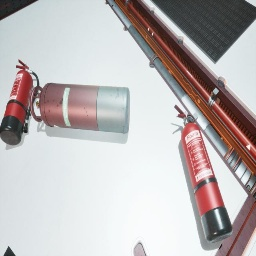FireExtinguisher ]: (174, 104, 233, 243), (0, 59, 39, 145)
NitrogenTank ,: (30, 83, 130, 134)
